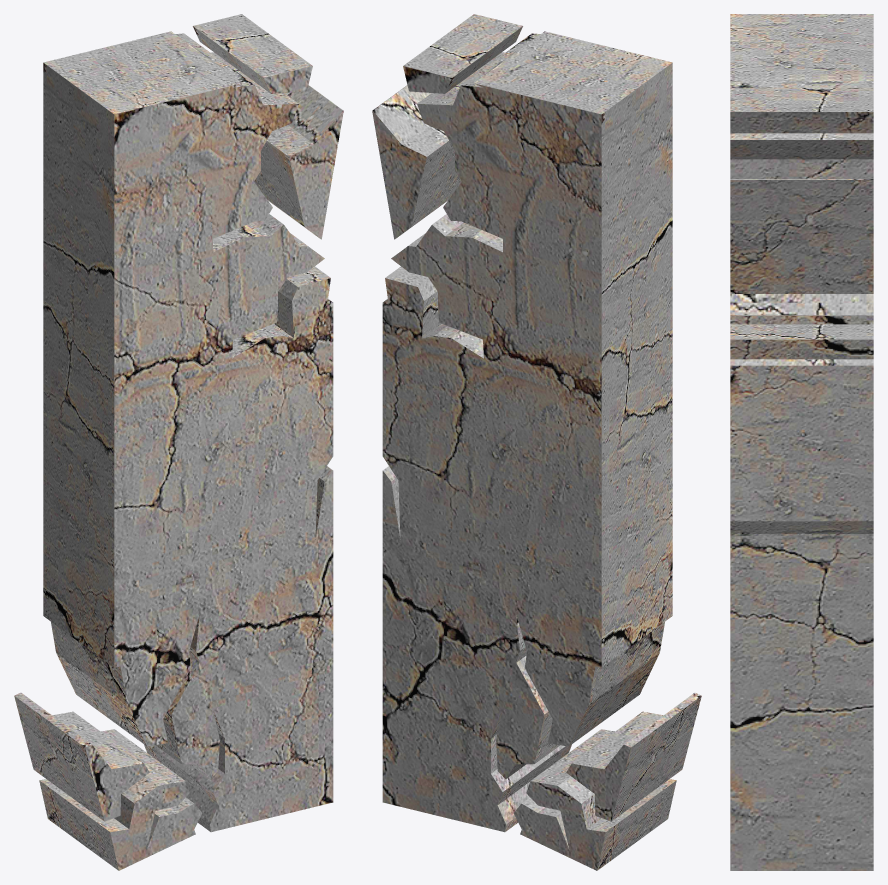
3 views of the same model, side by side, from view 1: azimuth 30°, elevation 25°; view 2: azimuth 150°, elevation 25°; view 3: azimuth 270°, elevation 25° (orthographic).
Visible parts, largest first — view 1: I; view 2: I; view 3: I.
Boxes of the visible parts, x1,y1,x2,y2 form: I: (14,14,343,870); I: (372,14,701,870); I: (730,14,873,870).
Bounding box in the file's own units: 31.53 × 88.25 × 15.
Materials: 1 (1 with a texture image).
